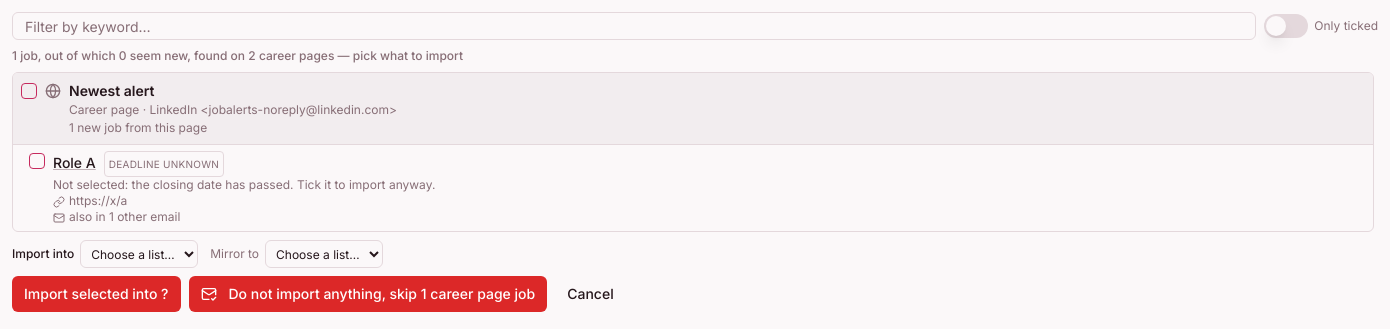
Test: SavedSearchPicker › never lets a keyword filter fold a matching posting out of sight
Expected: the link "Role A" is shown, [53,153,96,173]
In the field with placeholder "Filter by keyword…": (634, 26) [12,12,1256,40], type "Older digest"
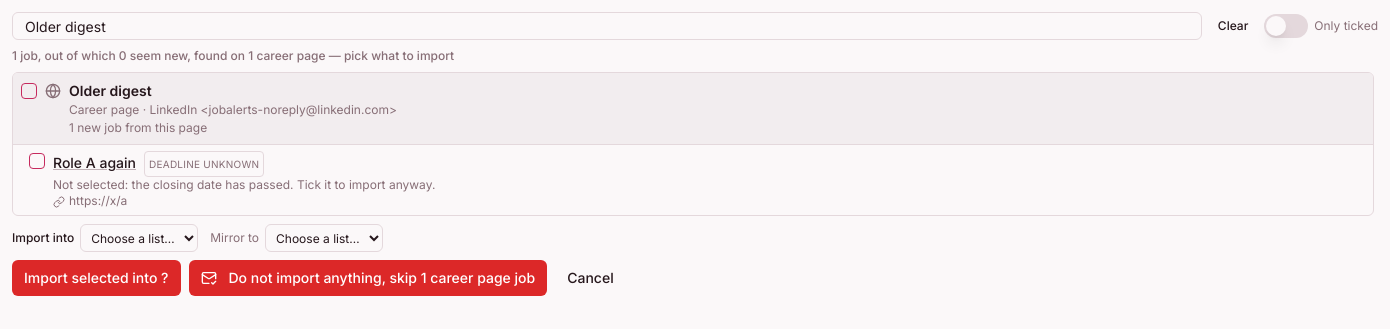
Now the link "Role A again" is shown, box [53,153,136,173]
